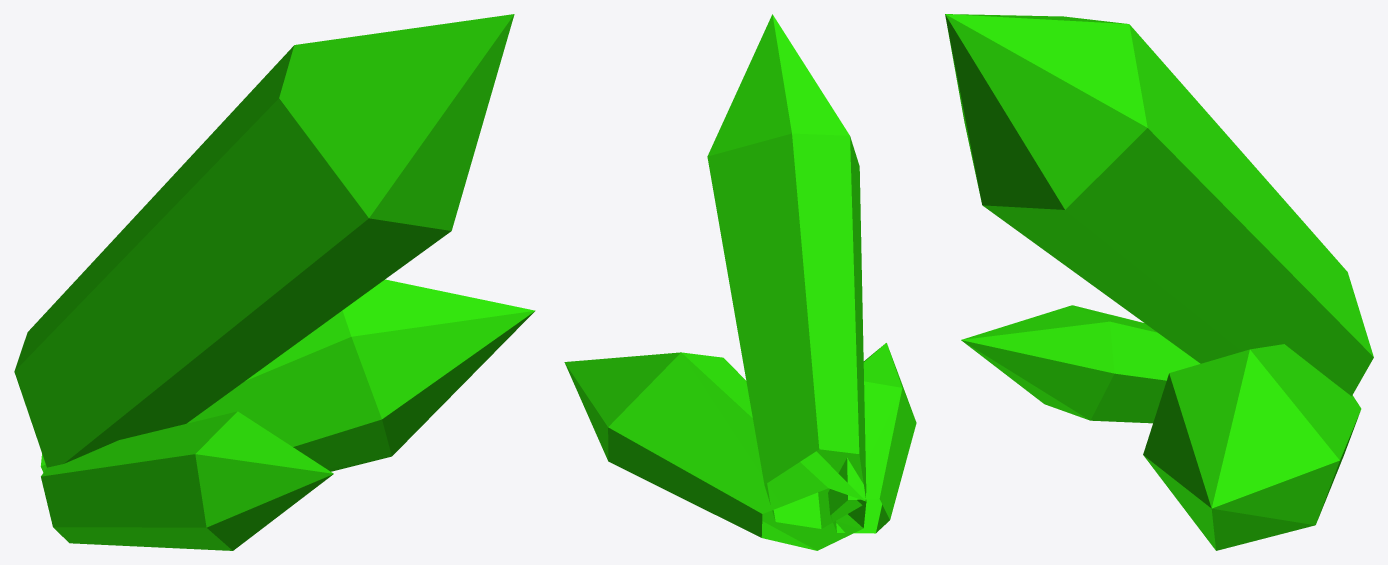
Rendered from cave_crystal_wall3.glb.
The picture shows the model from 3 angles, left to right: view 1: azimuth 30°, elevation 25°; view 2: azimuth 150°, elevation 25°; view 3: azimuth 270°, elevation 25°; orthographic projection. The views are drawn at different scales.
Visible parts, largest first — view 1: Crystal-wall03-col; view 2: Crystal-wall03-col; view 3: Crystal-wall03-col.
Part boxes in pixels (bbox=[...]): Crystal-wall03-col: bbox=[14, 14, 535, 550]; Crystal-wall03-col: bbox=[564, 14, 916, 550]; Crystal-wall03-col: bbox=[945, 14, 1373, 550].
Bounding box in the file's own units: 0.919 × 1.08 × 0.7486.
